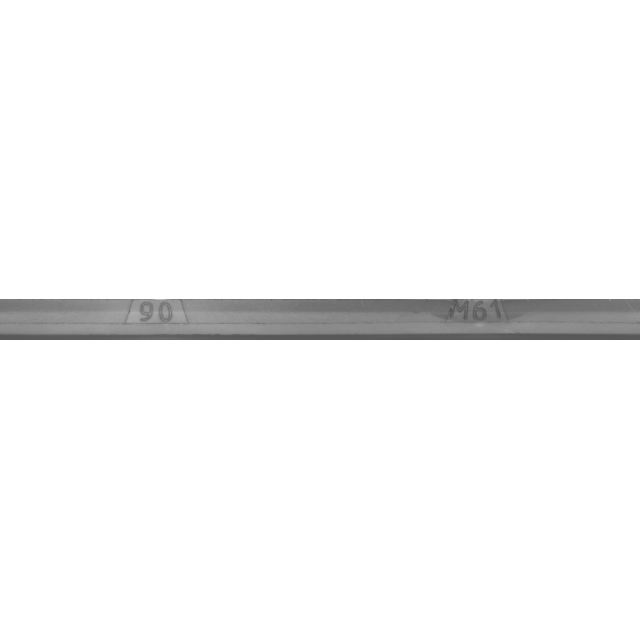mohao: (379, 270, 579, 370)
xuehao: (56, 270, 256, 370)
